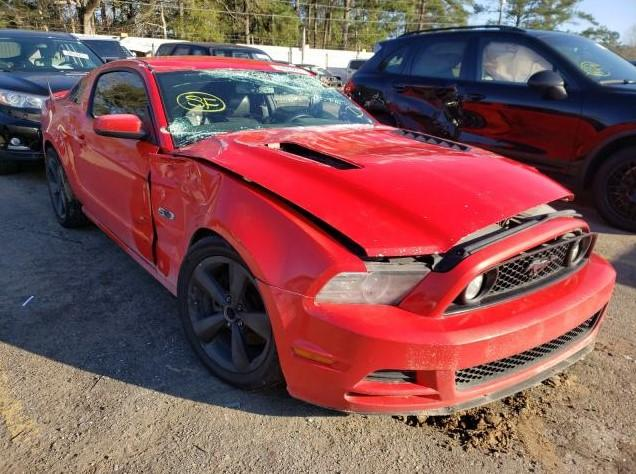Back-wheel: (44, 146, 81, 224)
Back-window: (70, 72, 91, 100)
Fender: (150, 156, 368, 297)
Front-bumper: (257, 215, 616, 417)
Front-door: (72, 68, 160, 262)
Front-wheel: (179, 240, 280, 389)
Front-window: (90, 72, 155, 137)
Grille: (447, 231, 598, 314)
Headlight: (315, 261, 430, 306)
Hood: (176, 121, 572, 256)
Mirror: (94, 114, 151, 140)
Quarter-panel: (41, 101, 79, 194)
Rocker-panel: (81, 203, 176, 296)
Roof: (123, 56, 308, 74)
Trunk: (49, 92, 68, 100)
Windshield: (154, 71, 375, 145)
